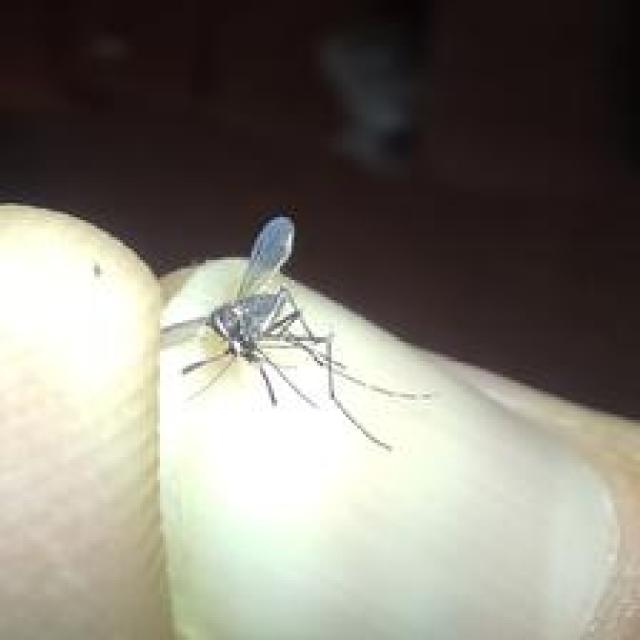Aedes albopictus: (158, 213, 433, 453)
